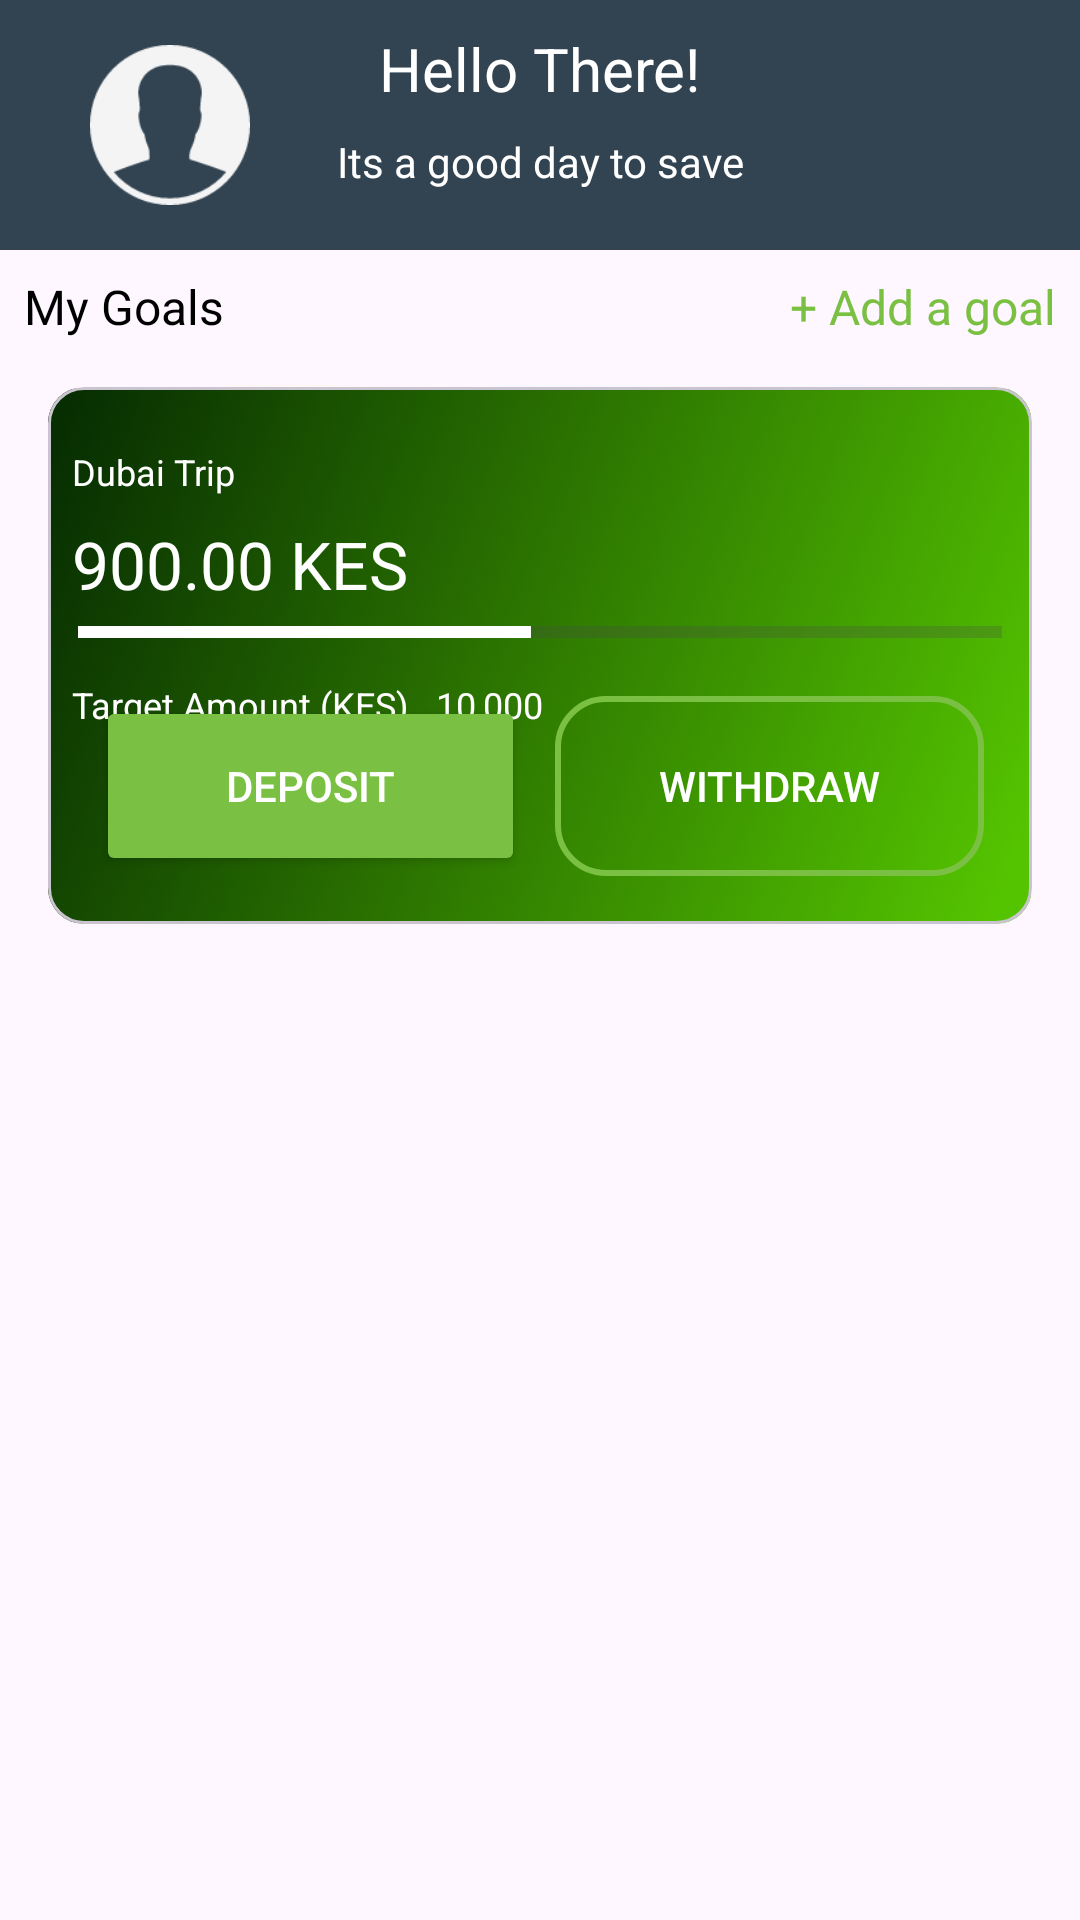

Where to tap for icons on this 1080w x 1920h app screen, as point (x, y):
user profile: point (170, 125)
